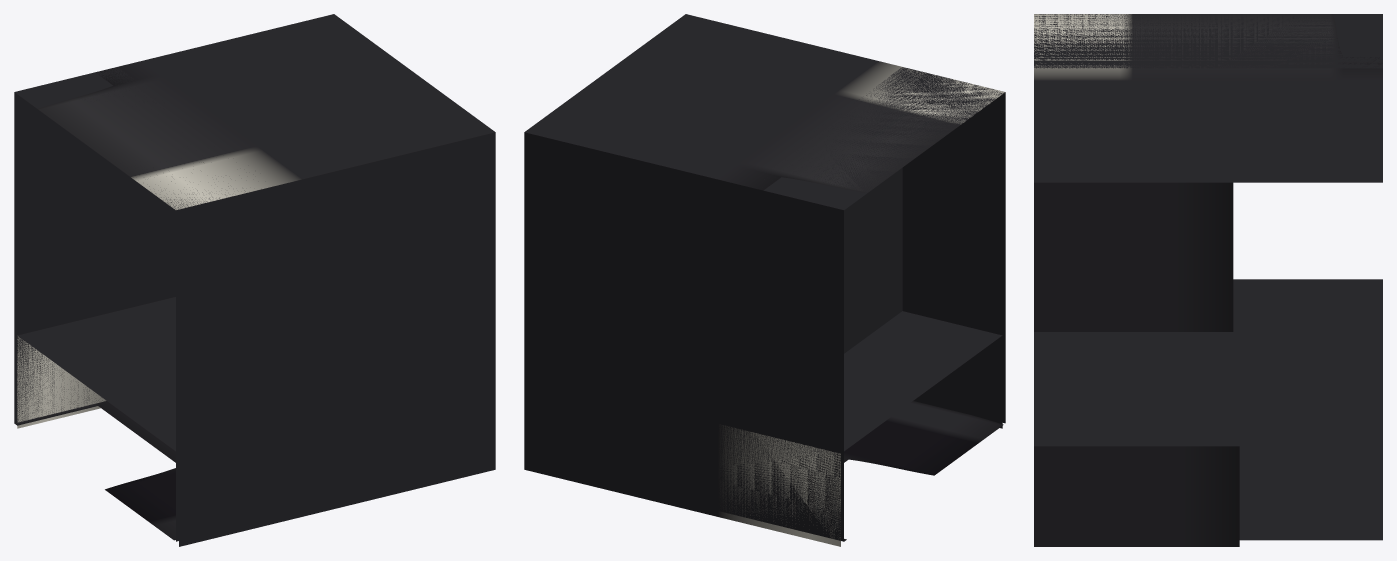
Rendered from section-10.obj.
3 renders of one model, left to right at view 1: azimuth 30°, elevation 25°; view 2: azimuth 150°, elevation 25°; view 3: azimuth 270°, elevation 25°, orthographic. The views are drawn at different scales.
Size of the model in its own units: 0.9308 by 0.9383 by 0.8142.
